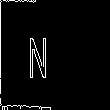N_N: (44, 29, 66, 81)
